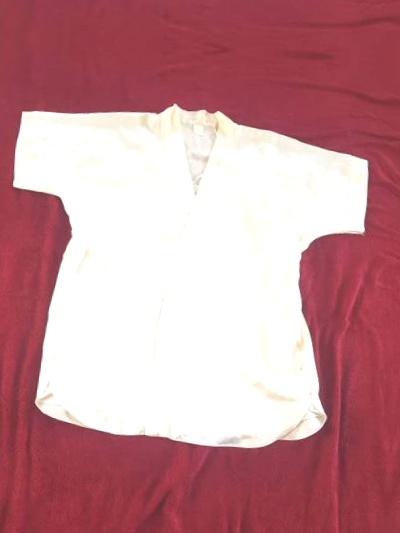Blouse: (0, 79, 383, 475), (23, 0, 400, 17)
